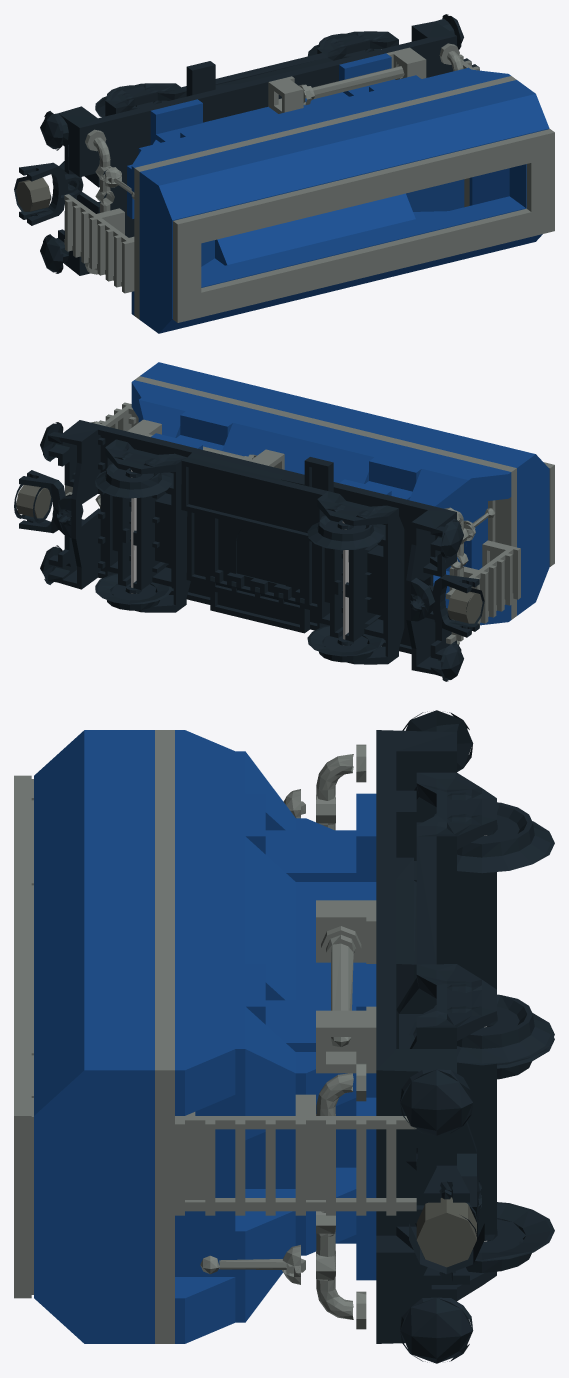
File: blue-hopper-car.glb
3 views of the same model, one above another, from view 1: azimuth 30°, elevation 25°; view 2: azimuth 150°, elevation 25°; view 3: azimuth 270°, elevation 25° (orthographic). The views are drawn at different scales.
Bounding box in the file's own units: 153 × 57.8 × 86.
